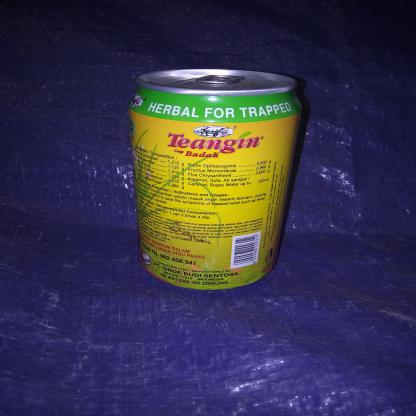can: (120, 62, 309, 298)
